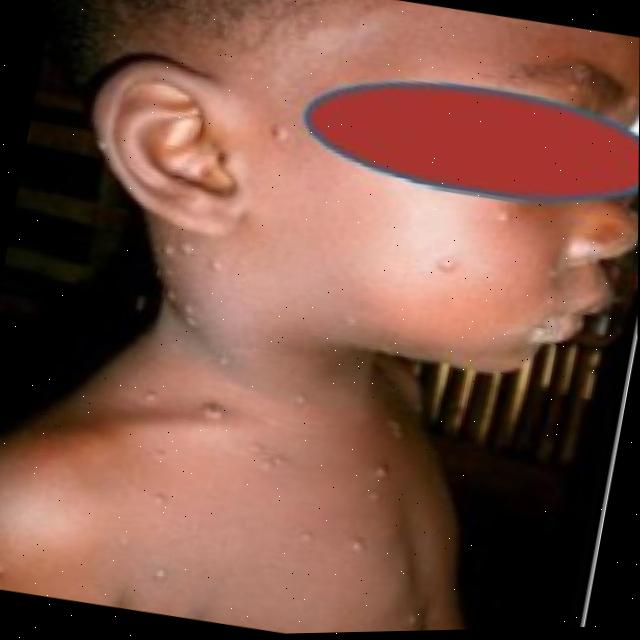Eczema: (146, 383, 442, 593), (118, 204, 238, 344)
